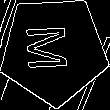M_E: (29, 26, 80, 75)
